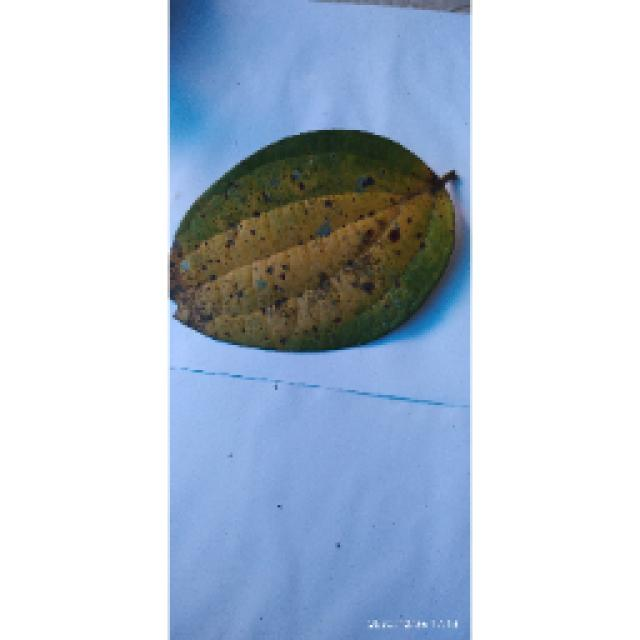slow-decline: (157, 120, 465, 358)
